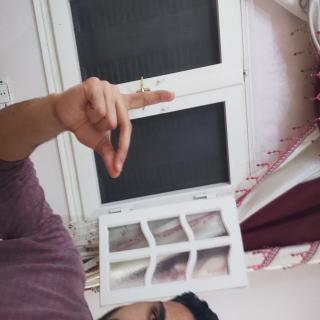TAA: (49, 186, 138, 320)
